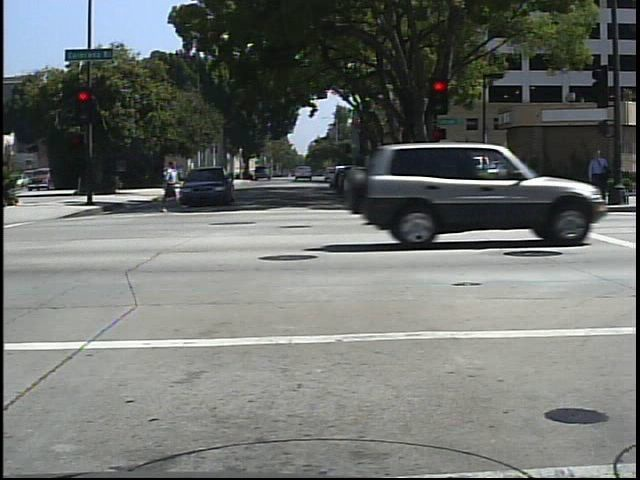person: (154, 155, 184, 213), (587, 143, 616, 193)
